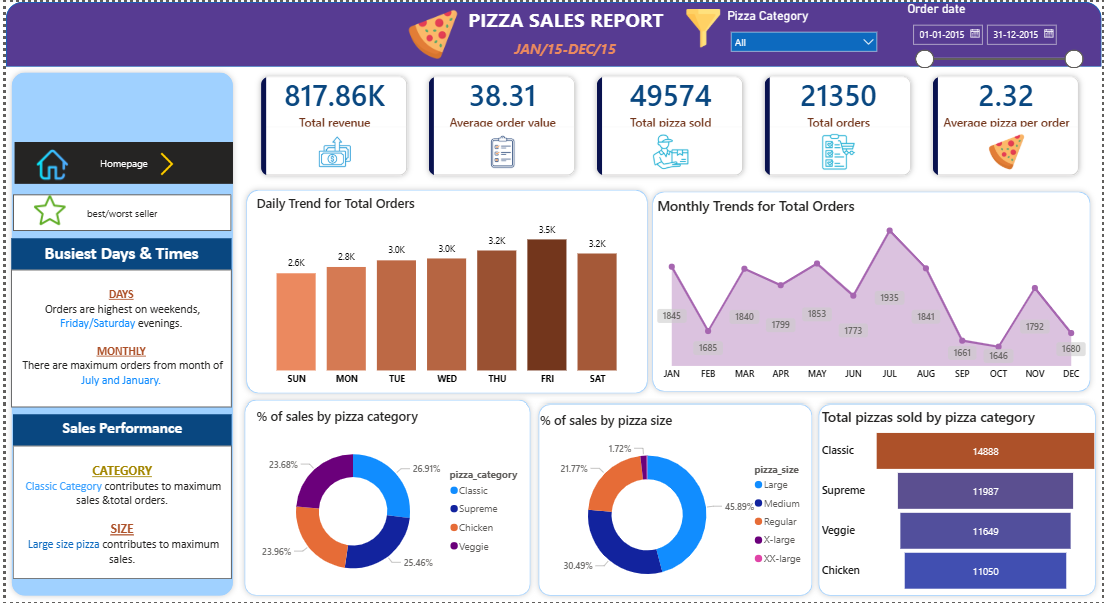

Layout of this report page (visuals, bound fields, positions):
{"tool":"powerbi","page":{"name":"Homepage","canvas":[1500,820],"ordinal":0},"visuals":[{"type":"shape","box":[0,88.7,318.8,731],"z":0},{"type":"textbox","box":[7.2,323.6,302,43.1],"z":1000},{"type":"cardVisual","fields":{"Data":["pizza pizza_sales.Total revenue","pizza pizza_sales.Average order value","pizza pizza_sales.total_pizza_sold","pizza pizza_sales.Total orders","pizza pizza_sales.Average pizza per order"]},"box":[321.2,74.3,1179.2,191.7],"z":2000},{"type":"shape","box":[0,0,1500.3,88.7],"z":3000},{"type":"textbox","box":[551.2,0,431.4,69.5],"z":4000},{"type":"textbox","box":[673.5,45.5,184.5,45.5],"z":5000},{"type":"image","box":[529.7,9.6,110.2,69.5],"z":6000},{"type":"shape","box":[321.2,249.3,565.6,294.8],"z":7000},{"type":"columnChart","title":"Daily Trend for Total Orders","fields":{"Category":["pizza pizza_sales.ORDER DAY"],"Y":["pizza pizza_sales.Total orders"]},"box":[337.9,263.6,532.1,270.8],"z":8000},{"type":"shape","box":[877.2,251.7,615.9,290],"z":9000},{"type":"stackedAreaChart","title":"Monthly Trends for Total Orders","fields":{"Category":["pizza pizza_sales.month"],"Y":["pizza pizza_sales.Total orders"]},"box":[886.8,266,596.8,261.2],"z":10000},{"type":"shape","box":[318.8,536.9,407.4,282.8],"z":11000},{"type":"shape","box":[721.4,541.6,390.7,278],"z":12000},{"type":"shape","box":[1104.9,541.6,395.5,278],"z":13000},{"type":"donutChart","title":"% of sales by pizza category","fields":{"Category":["pizza pizza_sales.pizza_category"],"Y":["pizza pizza_sales.Total revenue"]},"box":[337.9,553.6,383.5,261.2],"z":14000},{"type":"funnel","title":"Total pizzas sold by pizza category","fields":{"Category":["pizza pizza_sales.pizza_category"],"Y":["Sum(pizza pizza_sales.quantity)"]},"box":[1112.1,553.6,388.3,258.8],"z":16000},{"type":"textbox","box":[7.2,366.7,302,186.9],"z":16001},{"type":"textbox","box":[9.6,563.2,299.6,43.1],"z":16002},{"type":"textbox","box":[9.6,606.4,299.6,182.1],"z":16003},{"type":"donutChart","title":"% of sales by pizza size","fields":{"Category":["pizza pizza_sales.pizza_size"],"Y":["pizza pizza_sales.Total revenue"]},"box":[726.2,558.4,383.5,261.2],"z":16004},{"type":"slicer","title":"Pizza Category","fields":{"Values":["pizza pizza_sales.pizza_category"]},"box":[982.6,9.6,220.5,69.5],"z":16006},{"type":"slicer","title":"Order date","fields":{"Values":["pizza pizza_sales.order_date"]},"box":[1229.5,0,254,91.1],"z":16007},{"type":"pageNavigator","box":[12,191.7,299.6,57.5],"z":16008},{"type":"pageNavigator","box":[9.6,263.6,299.6,50.3],"z":16009},{"type":"image","box":[189.3,206.1,62.3,31.2],"z":16010},{"type":"image","box":[9.6,201.3,107.9,43.1],"z":16011},{"type":"image","box":[0,263.6,119.8,43.1],"z":16012},{"type":"image","box":[910.7,9.6,88.7,52.7],"z":16013}]}

Visuals, with their boxes in screenshot pixels (x1, y1, x2, y2), scaled from the page's 1500x820 canvas onto the 1104x603 screenshot:
shape: x1=0, y1=65, x2=235, y2=602
textbox: x1=5, y1=238, x2=228, y2=270
cardVisual - pizza pizza_sales.Total revenue x pizza pizza_sales.Average order value: x1=236, y1=55, x2=1103, y2=196
shape: x1=0, y1=0, x2=1103, y2=65
textbox: x1=406, y1=0, x2=723, y2=51
textbox: x1=496, y1=33, x2=631, y2=67
image: x1=390, y1=7, x2=471, y2=58
shape: x1=236, y1=183, x2=653, y2=400
"Daily Trend for Total Orders" columnChart: x1=249, y1=194, x2=640, y2=393
shape: x1=646, y1=185, x2=1099, y2=398
"Monthly Trends for Total Orders" stackedAreaChart: x1=653, y1=196, x2=1092, y2=388
shape: x1=235, y1=395, x2=534, y2=602
shape: x1=531, y1=398, x2=819, y2=602
shape: x1=813, y1=398, x2=1103, y2=602
"% of sales by pizza category" donutChart: x1=249, y1=407, x2=531, y2=599
"Total pizzas sold by pizza category" funnel: x1=819, y1=407, x2=1103, y2=597
textbox: x1=5, y1=270, x2=228, y2=407
textbox: x1=7, y1=414, x2=228, y2=446
textbox: x1=7, y1=446, x2=228, y2=580
"% of sales by pizza size" donutChart: x1=534, y1=411, x2=817, y2=602
"Pizza Category" slicer: x1=723, y1=7, x2=885, y2=58
"Order date" slicer: x1=905, y1=0, x2=1092, y2=67
pageNavigator: x1=9, y1=141, x2=229, y2=183
pageNavigator: x1=7, y1=194, x2=228, y2=231
image: x1=139, y1=152, x2=185, y2=175
image: x1=7, y1=148, x2=86, y2=180
image: x1=0, y1=194, x2=88, y2=226
image: x1=670, y1=7, x2=736, y2=46
